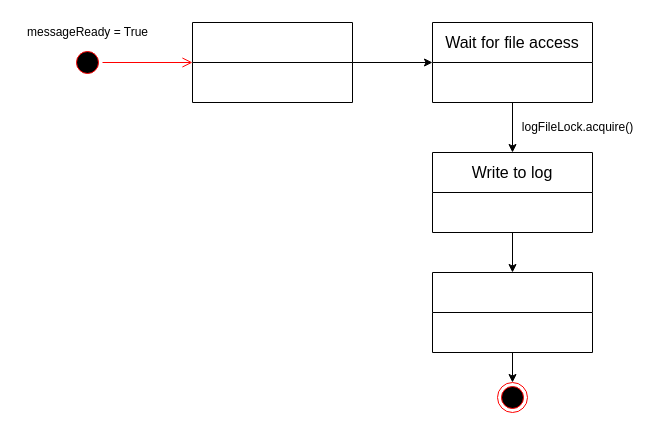
This 659x430 diagram has some shape labels left out. Here are the shapes that lost their labels. From the top down, the box of each, then its label:
(192, 22, 352, 102): Parse message
(432, 272, 592, 352): Release lock
